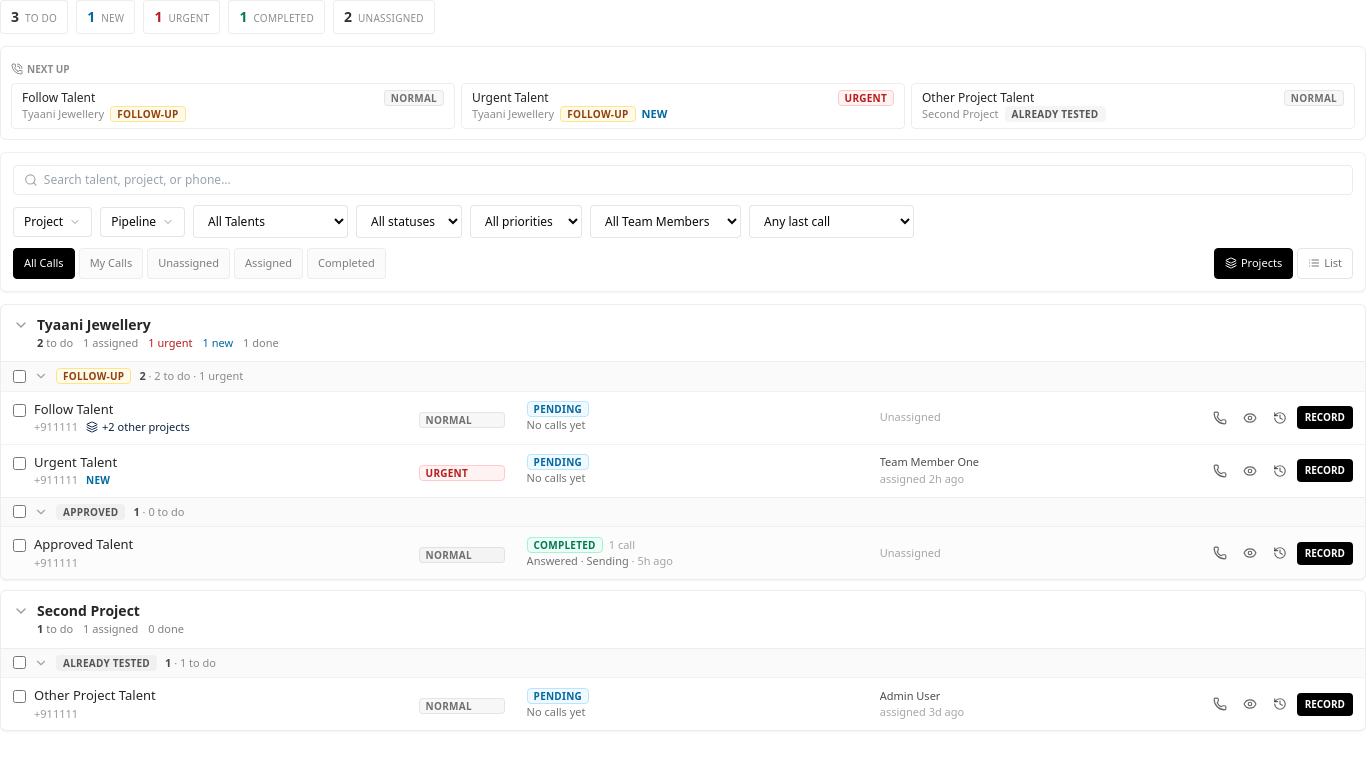
Test: Calls — other ongoing projects for the same talent › says so when the talent is in no other ongoing project
Click the button with test id "call-open" showing "Other Project Talent": click(95, 696) [34,686,156,706]
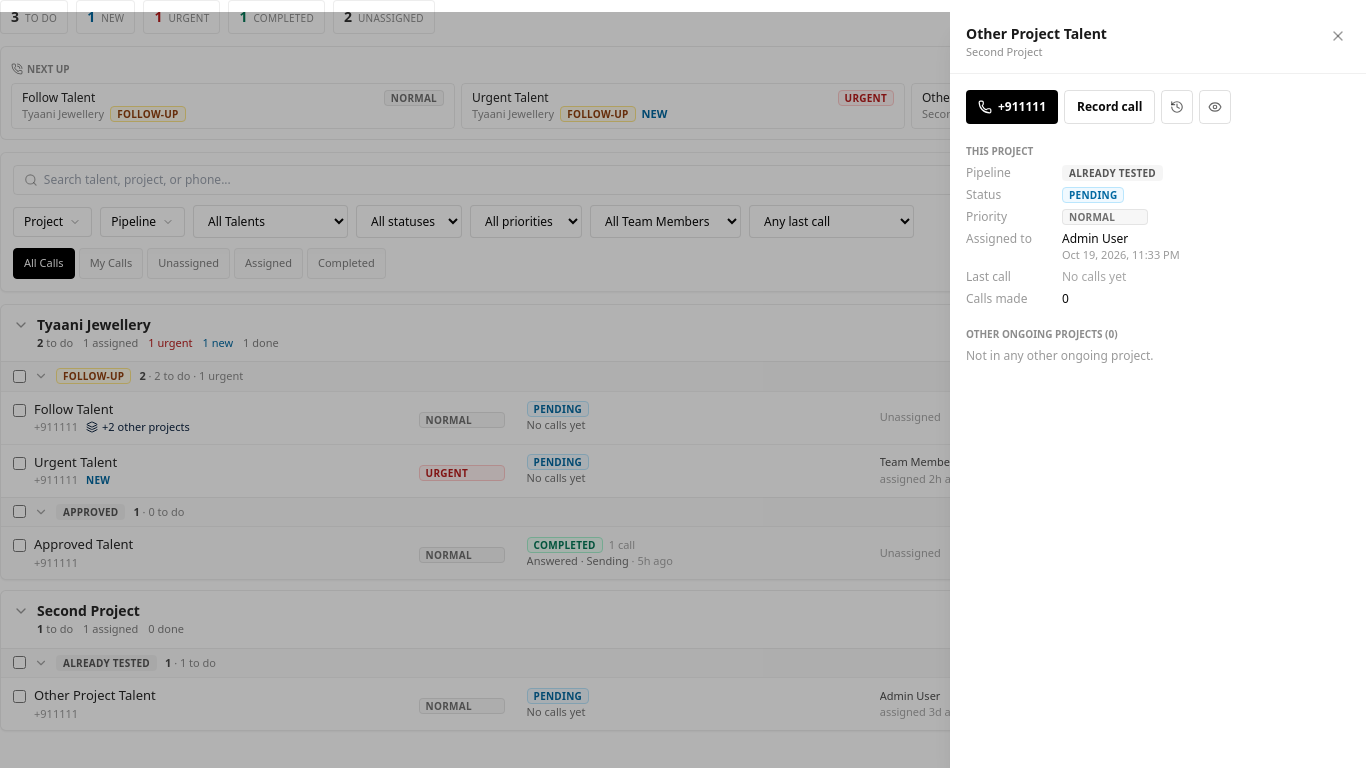
expect the element with test id "detail-other-projects" shows "Not in any other ongoing project": met, box [966,346,1154,364]
